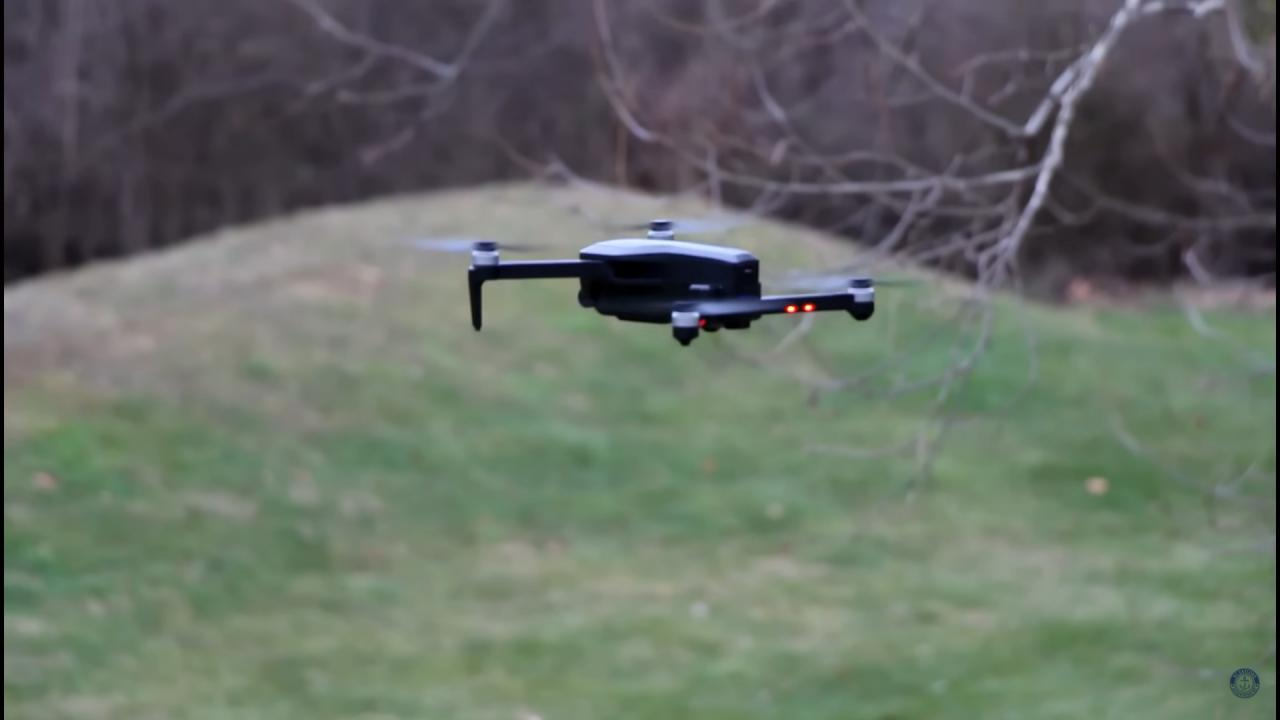Drone: (374, 186, 953, 371)
